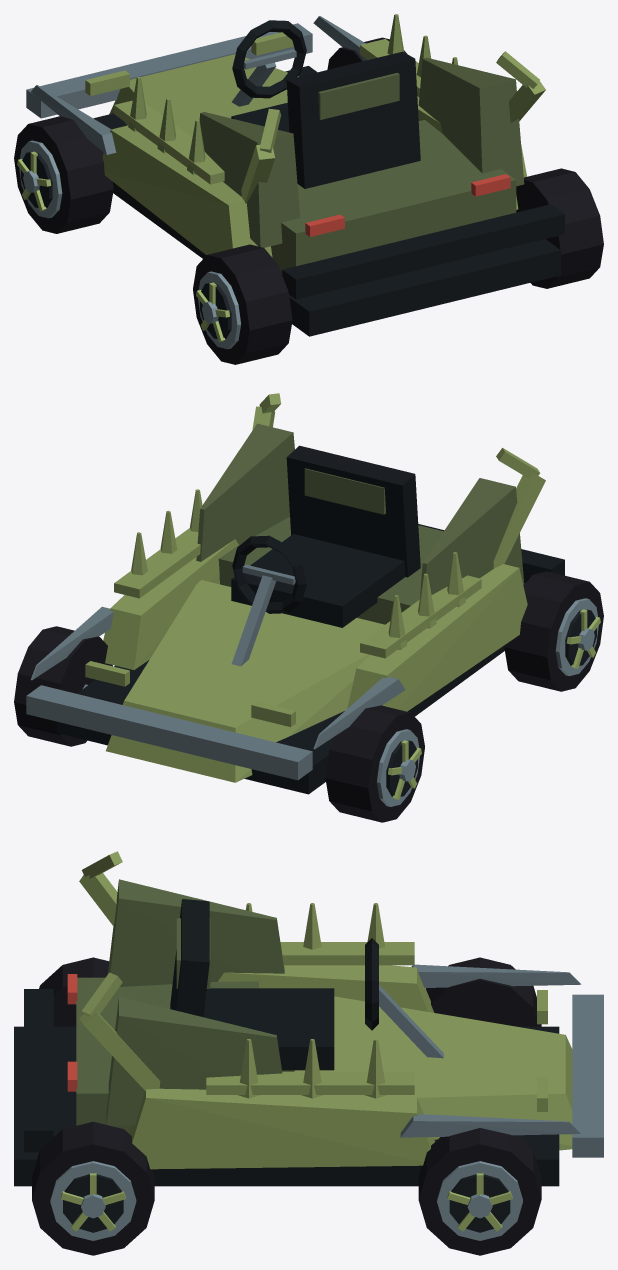
The model's file is kart.glb.
3 views of the same model, one above another, from view 1: azimuth 30°, elevation 25°; view 2: azimuth 150°, elevation 25°; view 3: azimuth 270°, elevation 25° (orthographic). The views are drawn at different scales.
Visible parts, largest first — view 1: chassis, wheel-rear-left, wheel-front-left, wheel-rear-right, wheel-front-right; view 2: chassis, wheel-front-left, wheel-rear-left, wheel-front-right; view 3: chassis, wheel-rear-right, wheel-front-right, wheel-front-left, wheel-rear-left.
Boxes of the visible parts, box(x1,y1,x2,y2) form: chassis: box(26, 14, 564, 336); wheel-rear-left: box(193, 244, 292, 364); wheel-front-left: box(14, 116, 113, 233); wheel-rear-right: box(516, 168, 603, 288); wheel-front-right: box(327, 37, 407, 69); chassis: box(26, 393, 564, 794); wheel-front-left: box(325, 705, 424, 822); wheel-rear-left: box(504, 571, 603, 691); wheel-front-right: box(14, 626, 112, 746); chassis: box(14, 851, 603, 1186); wheel-rear-right: box(32, 1121, 154, 1255); wheel-front-right: box(418, 1128, 541, 1255); wheel-front-left: box(426, 957, 541, 1026); wheel-rear-left: box(39, 957, 109, 1026).
Bounding box in the file's own units: 2.4 × 1.38 × 2.98.
